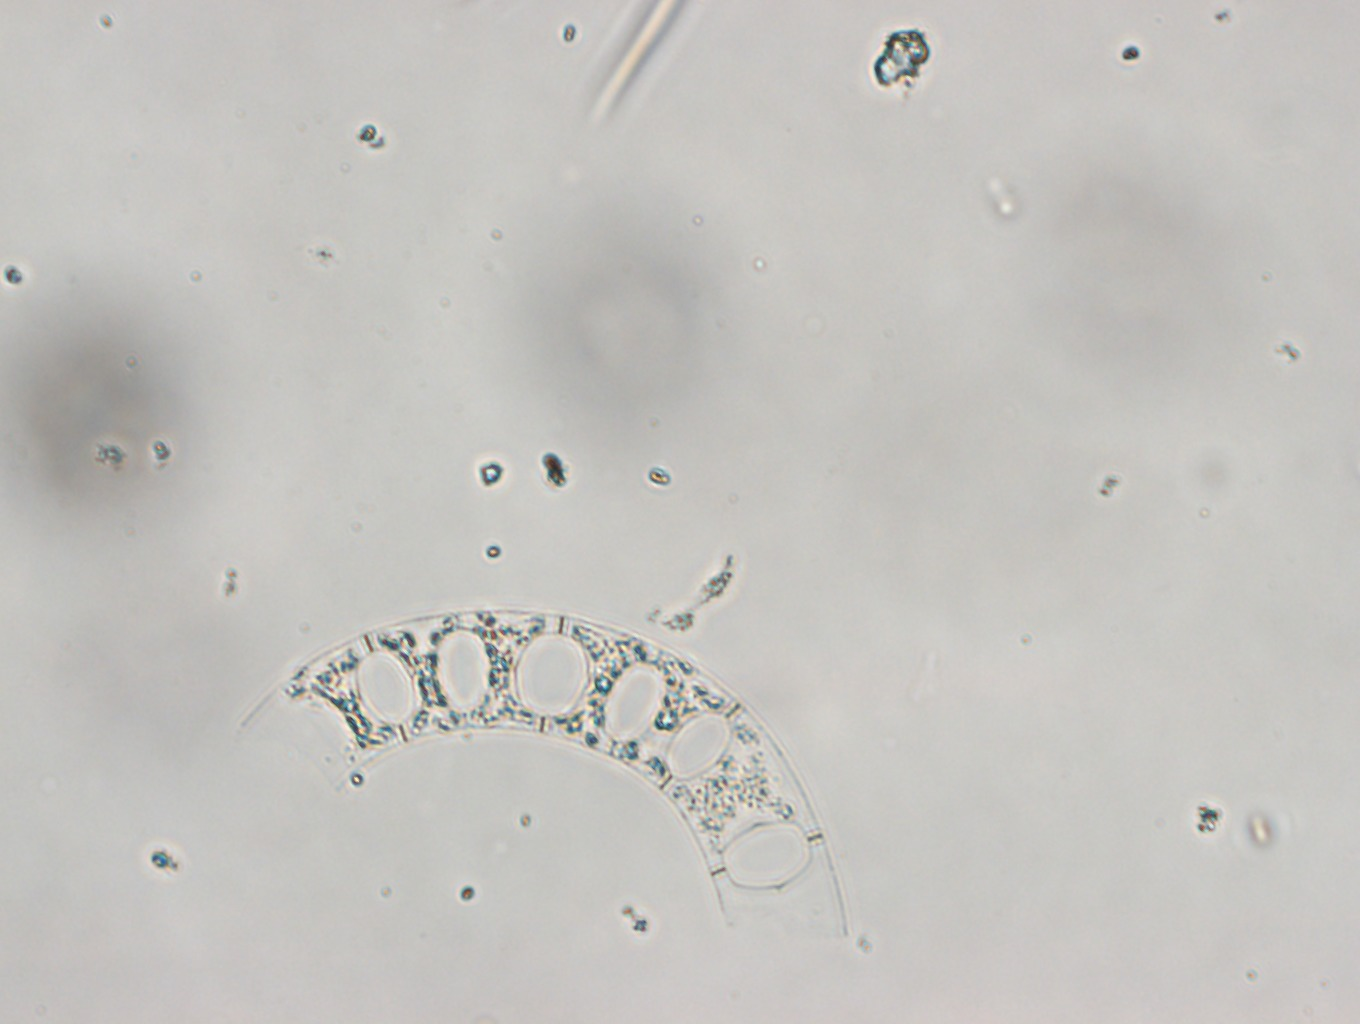eucampia: (285, 606, 851, 944)
